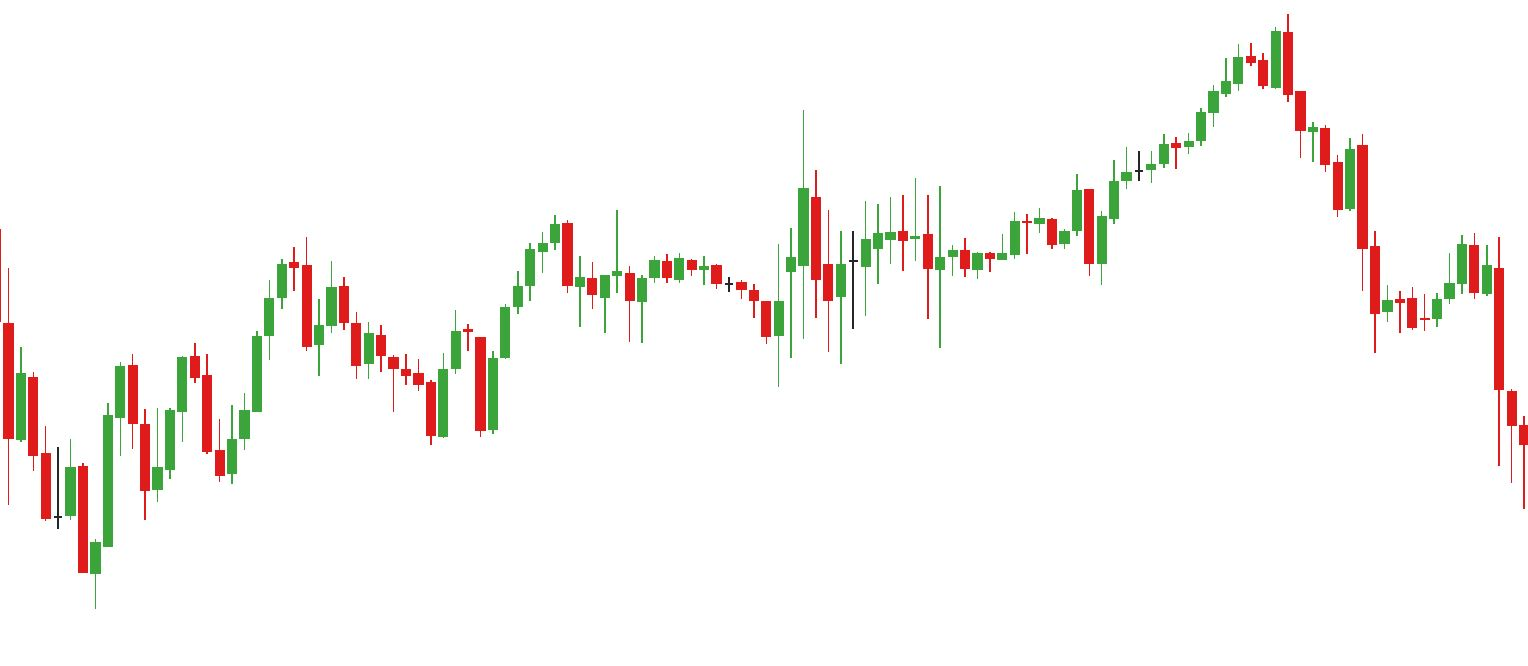buy: (959, 221, 1109, 286)
